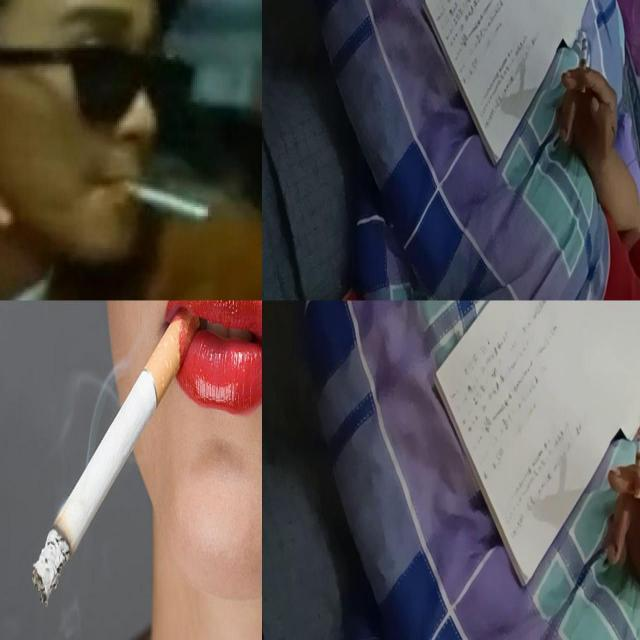smoke: (32, 309, 216, 604), (113, 175, 211, 222), (634, 424, 640, 500), (580, 39, 588, 93)
